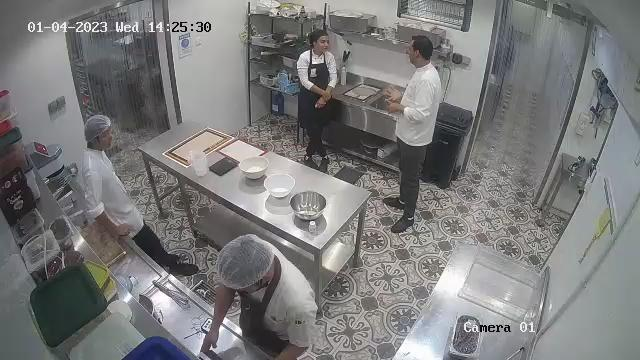apron: (234, 266, 311, 360), (302, 54, 333, 125)
no_apron: (91, 148, 147, 240), (395, 68, 432, 147)
